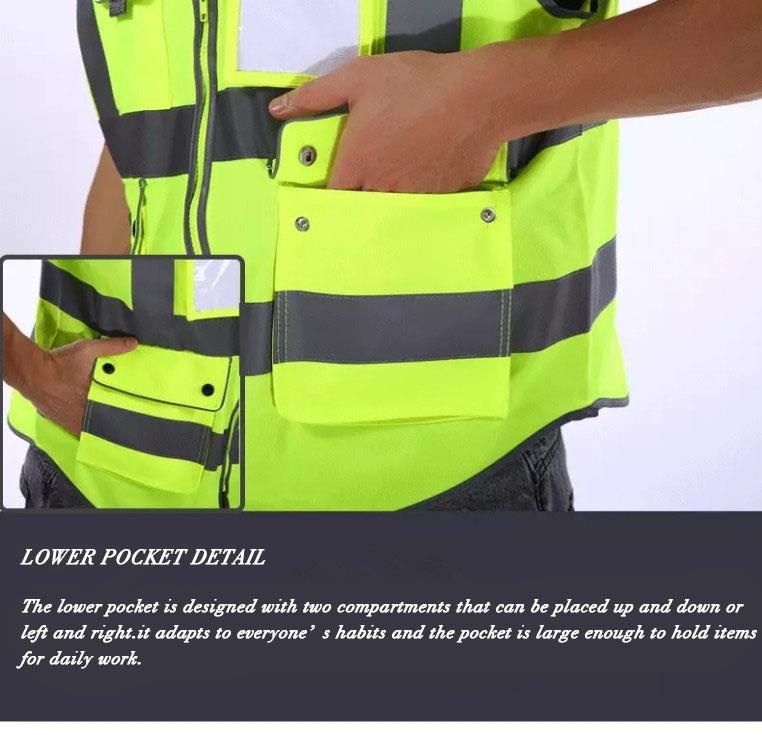safety vest: (81, 5, 617, 509)
